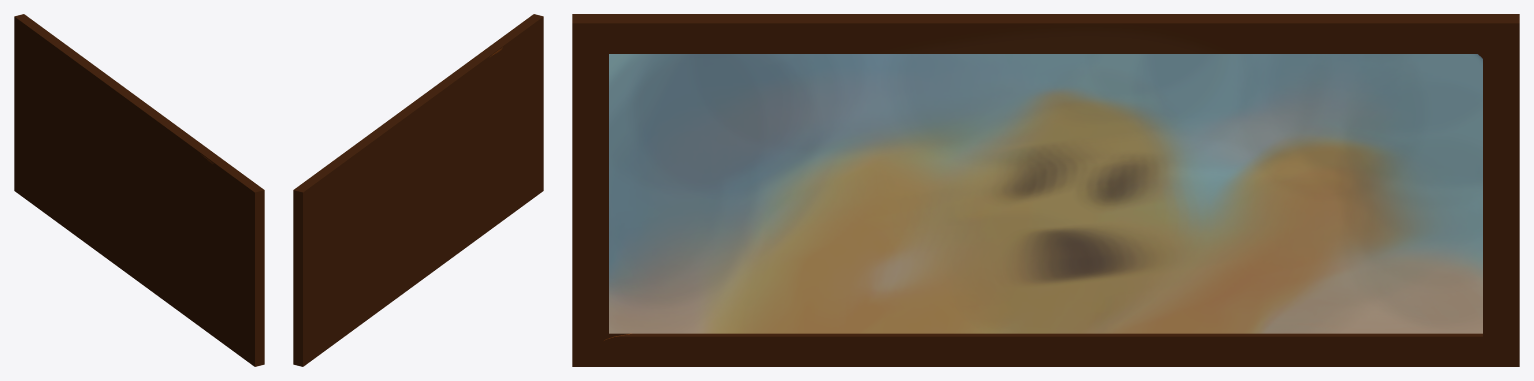
Rendered from Kitchen Painting.fbx.
The picture shows the model from 3 angles, left to right: view 1: azimuth 30°, elevation 25°; view 2: azimuth 150°, elevation 25°; view 3: azimuth 270°, elevation 25°; orthographic projection. The views are drawn at different scales.
Parts seen in each view (by area): view 1: Cube; view 2: Cube; view 3: Cube.
Part boxes in pixels (bbox=[...]): Cube: bbox=[14, 14, 264, 366]; Cube: bbox=[293, 14, 543, 366]; Cube: bbox=[572, 14, 1519, 366].
Bounding box in the file's own units: 200 × 4.74 × 80.
